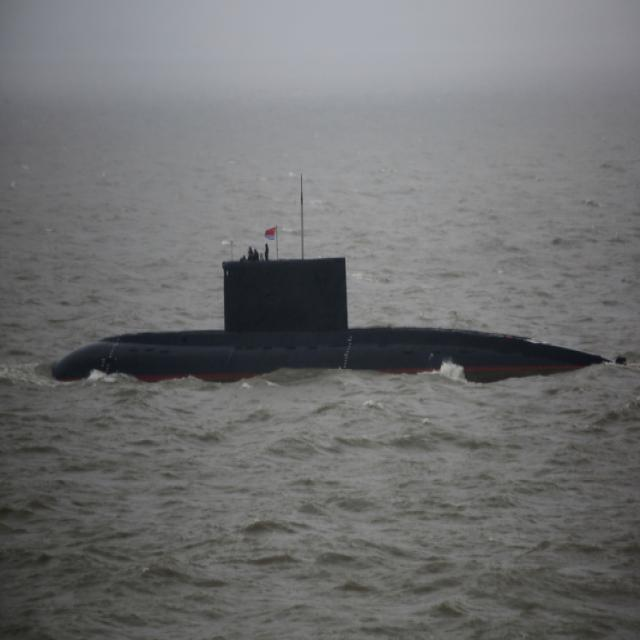submarine: (49, 255, 617, 387)
